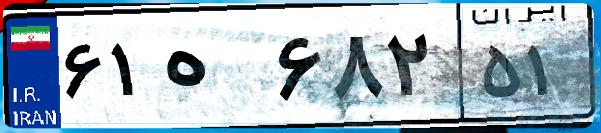1: (525, 38, 570, 115), (110, 28, 158, 98)
2: (385, 28, 445, 110)
5: (475, 38, 525, 113)
6: (270, 28, 330, 110), (57, 26, 110, 100)
8: (330, 28, 385, 110)
ه: (158, 20, 270, 120)
